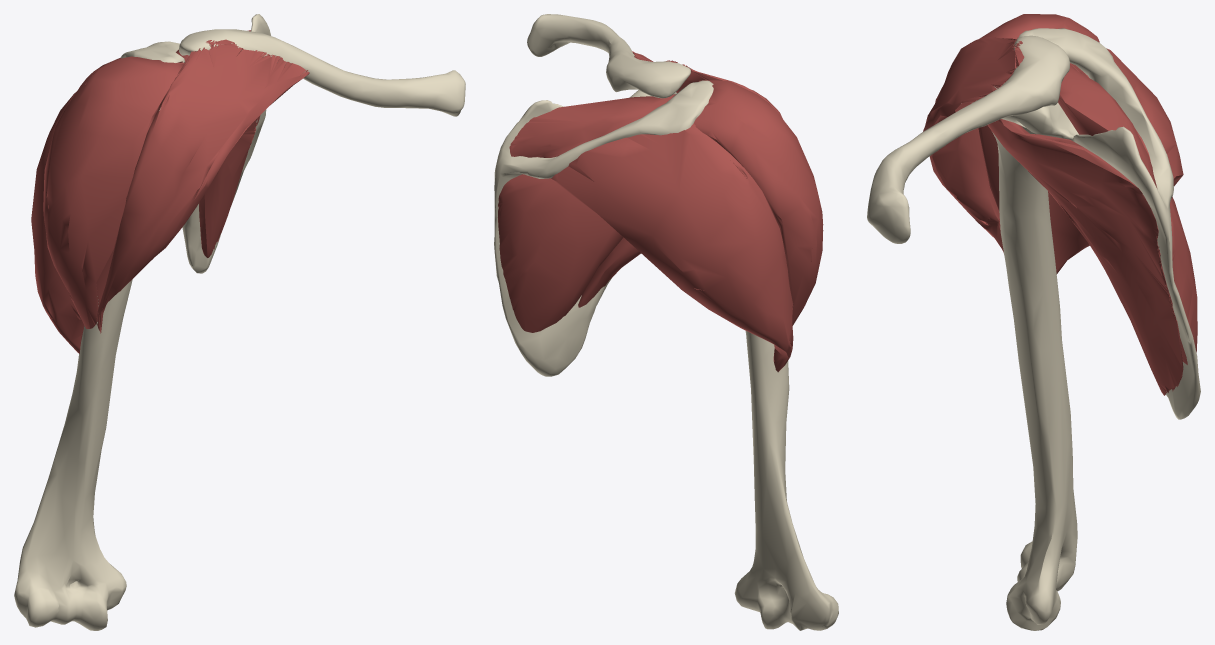
File: shoulder-mobile.glb
3 views of the same model, side by side, from view 1: azimuth 30°, elevation 25°; view 2: azimuth 150°, elevation 25°; view 3: azimuth 270°, elevation 25° (orthographic). The views are drawn at different scales.
Parts seen in each view (by area): view 1: muscle.deltoid, bone.humerus, bone.clavicle, muscle.subscapularis, bone.scapula; view 2: muscle.deltoid, bone.humerus, muscle.infraspinatus, bone.scapula, bone.clavicle, muscle.supraspinatus, muscle.teres-minor; view 3: bone.humerus, muscle.subscapularis, muscle.deltoid, bone.scapula, bone.clavicle, muscle.supraspinatus, muscle.infraspinatus.
Boxes of the visible parts, x1,y1,x2,y2 form: muscle.deltoid: (31,39,309,353); bone.humerus: (14,108,160,630); bone.clavicle: (179,29,465,116); muscle.subscapularis: (199,115,260,257); bone.scapula: (121,14,270,273); muscle.deltoid: (550,51,823,372); bone.humerus: (734,331,838,630); muscle.infraspinatus: (498,174,623,332); bone.scapula: (494,80,713,376); bone.clavicle: (527,14,690,98); muscle.supraspinatus: (509,94,675,157); muscle.teres-minor: (578,237,640,307); bone.humerus: (992,132,1077,630); muscle.subscapularis: (987,119,1183,395); muscle.deltoid: (923,14,1183,274); bone.scapula: (972,28,1200,419); bone.clavicle: (867,35,1069,243); muscle.supraspinatus: (1058,63,1157,188); muscle.infraspinatus: (1072,64,1197,364).
Size of the model in its own units: 0.2312 by 0.3263 by 0.1521.
